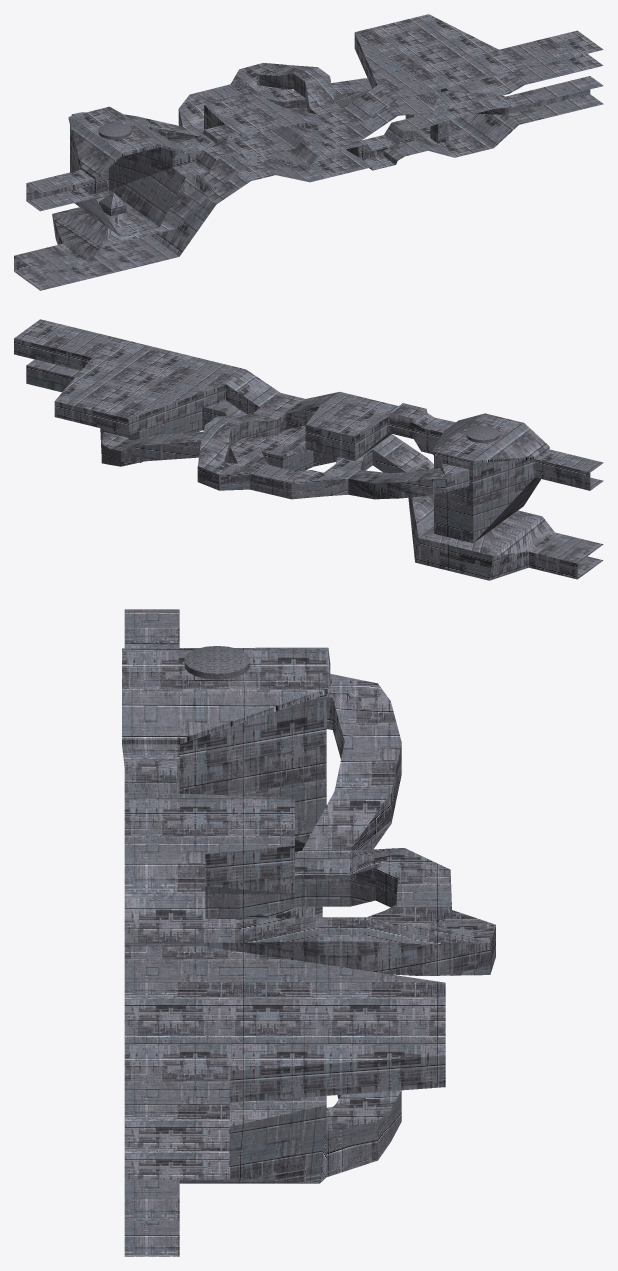
Rendered from Tunnels.FBX.
3 renders of one model, top to bottom at view 1: azimuth 30°, elevation 25°; view 2: azimuth 150°, elevation 25°; view 3: azimuth 270°, elevation 25°, orthographic. The views are drawn at different scales.
Parts seen in each view (by area): view 1: Box011; view 2: Box011; view 3: Box011.
Part boxes in pixels (x1,y1,x2,y2): Box011: (14,14,603,290); Box011: (14,319,603,580); Box011: (122,609,495,1256).
Bounding box in the file's own units: 132 × 27.21 × 37.81.
